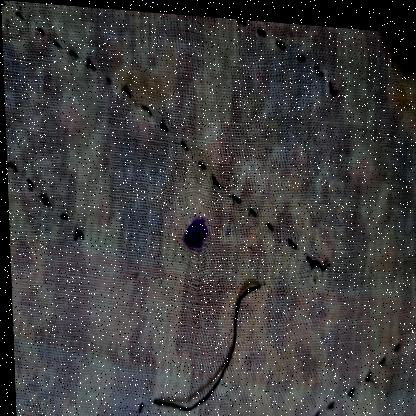spot: (122, 61, 173, 120), (177, 205, 213, 262)
